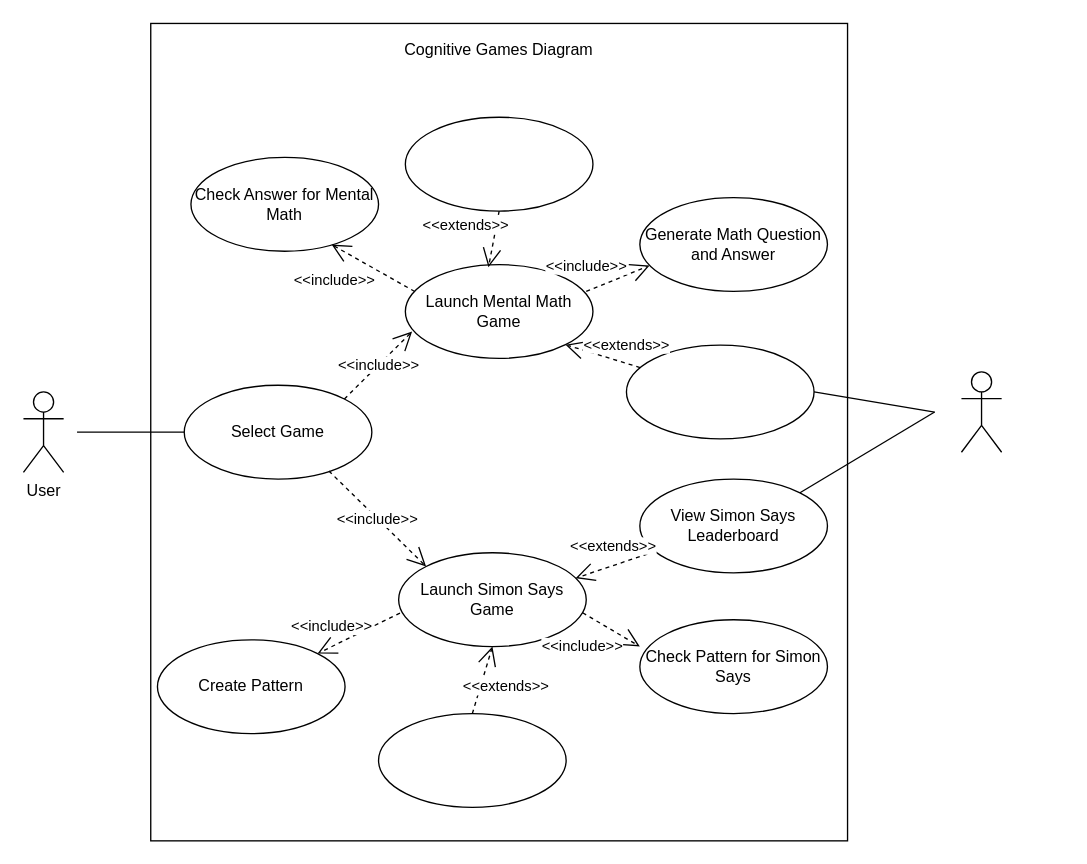
Image size: 1087x864. Some labels were removed from this diagram. The shapes that lost their labels are listed below. From the top down, each one's centre as x and y in pixels, then its label:
At pixel 498 163: "View Mental Math Tutorial".
At pixel 719 391: "View Mental Math Leaderboard".
At pixel 981 411: "Leaderboard Database".
At pixel 471 759: "View Simon Says Tutorial".
